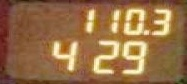-: (140, 27, 149, 34)
0: (120, 7, 144, 34)
1: (107, 7, 118, 33), (82, 7, 93, 32)
2: (90, 38, 117, 73)
3: (149, 7, 169, 34)
4: (49, 40, 75, 71)
9: (119, 40, 145, 74)
